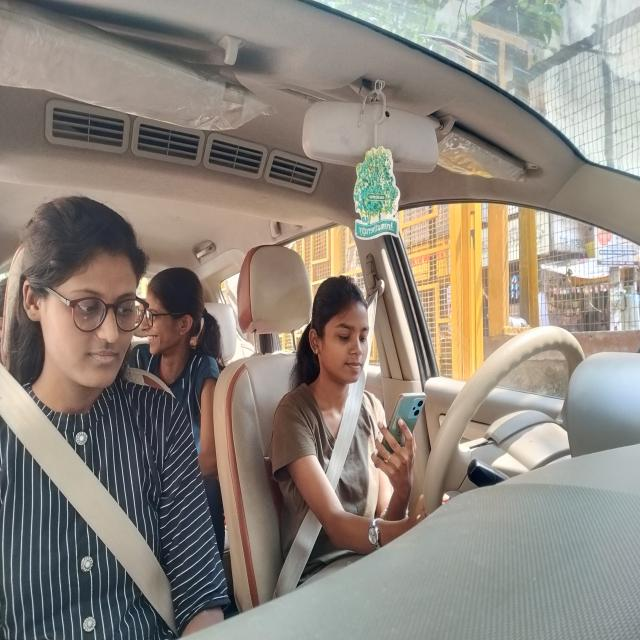mobile: (375, 388, 426, 468)
person: (21, 198, 146, 400), (306, 268, 372, 395), (148, 262, 208, 372)
